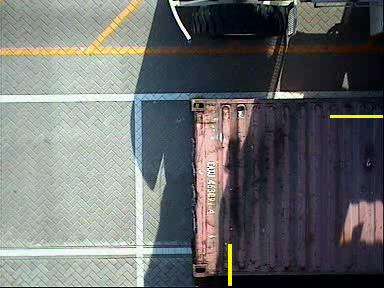groundmarker_2: (138, 25, 208, 86), (141, 129, 211, 189)
